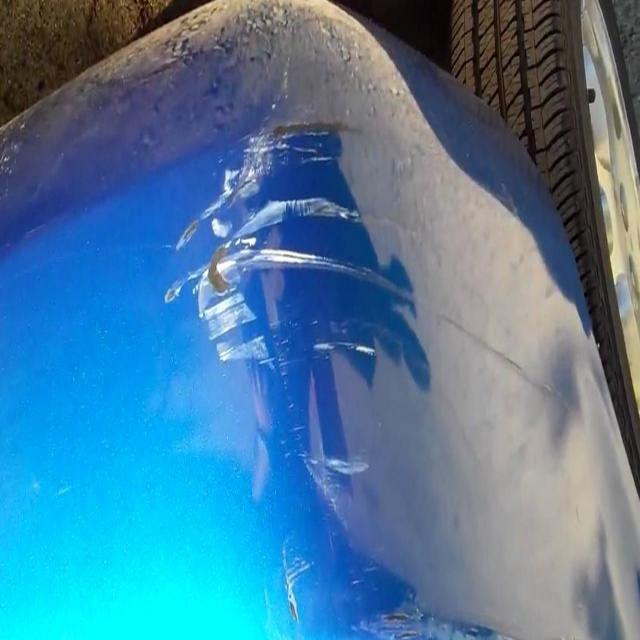scratch: (165, 88, 395, 500)
